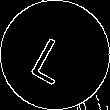L_NE: (29, 25, 81, 85)
